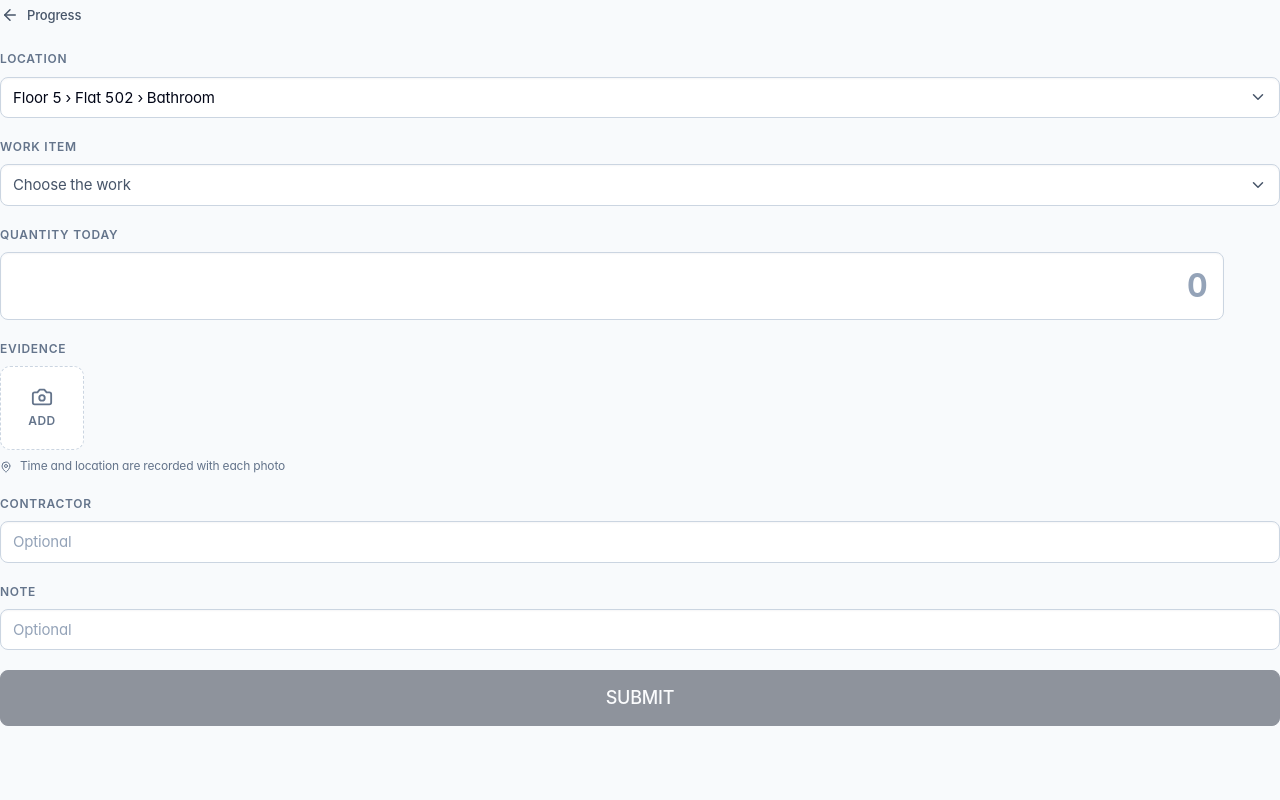
Scenario: S-M03 progress entry › the picker leads with RECENTS, not with a blank search box
Click the button "Floor 5 › Flat 502 › Bathroom": x=114, y=97 [0,77,1279,118]
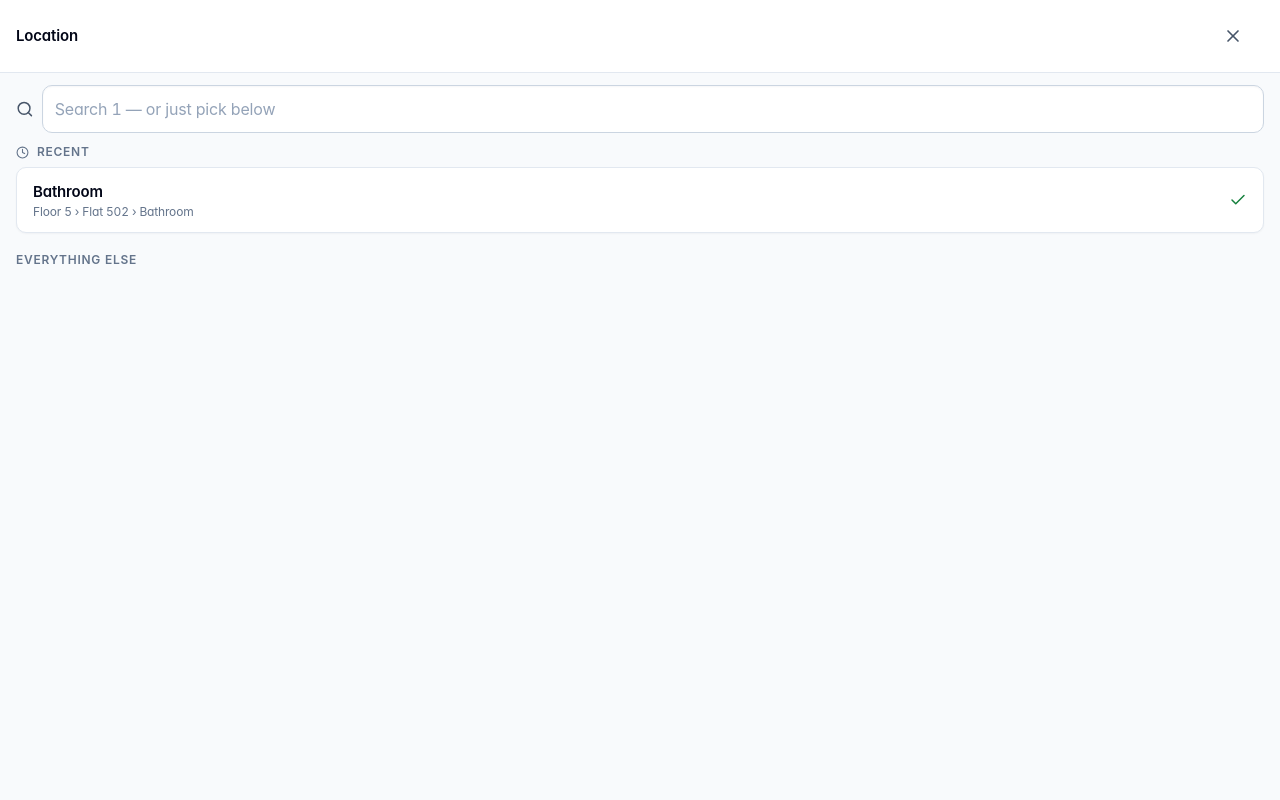
Expected: the heading "Recent" is shown, [16,145,90,159]
